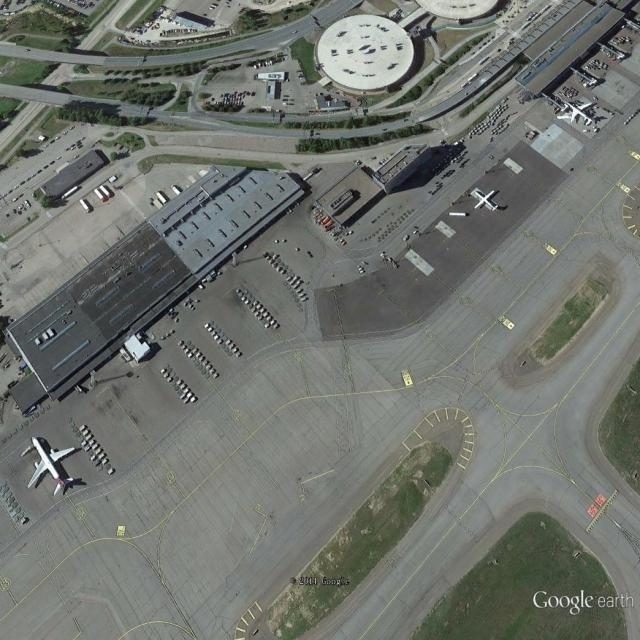aircraft: (26, 435, 78, 500), (565, 101, 597, 129), (468, 187, 501, 214)
